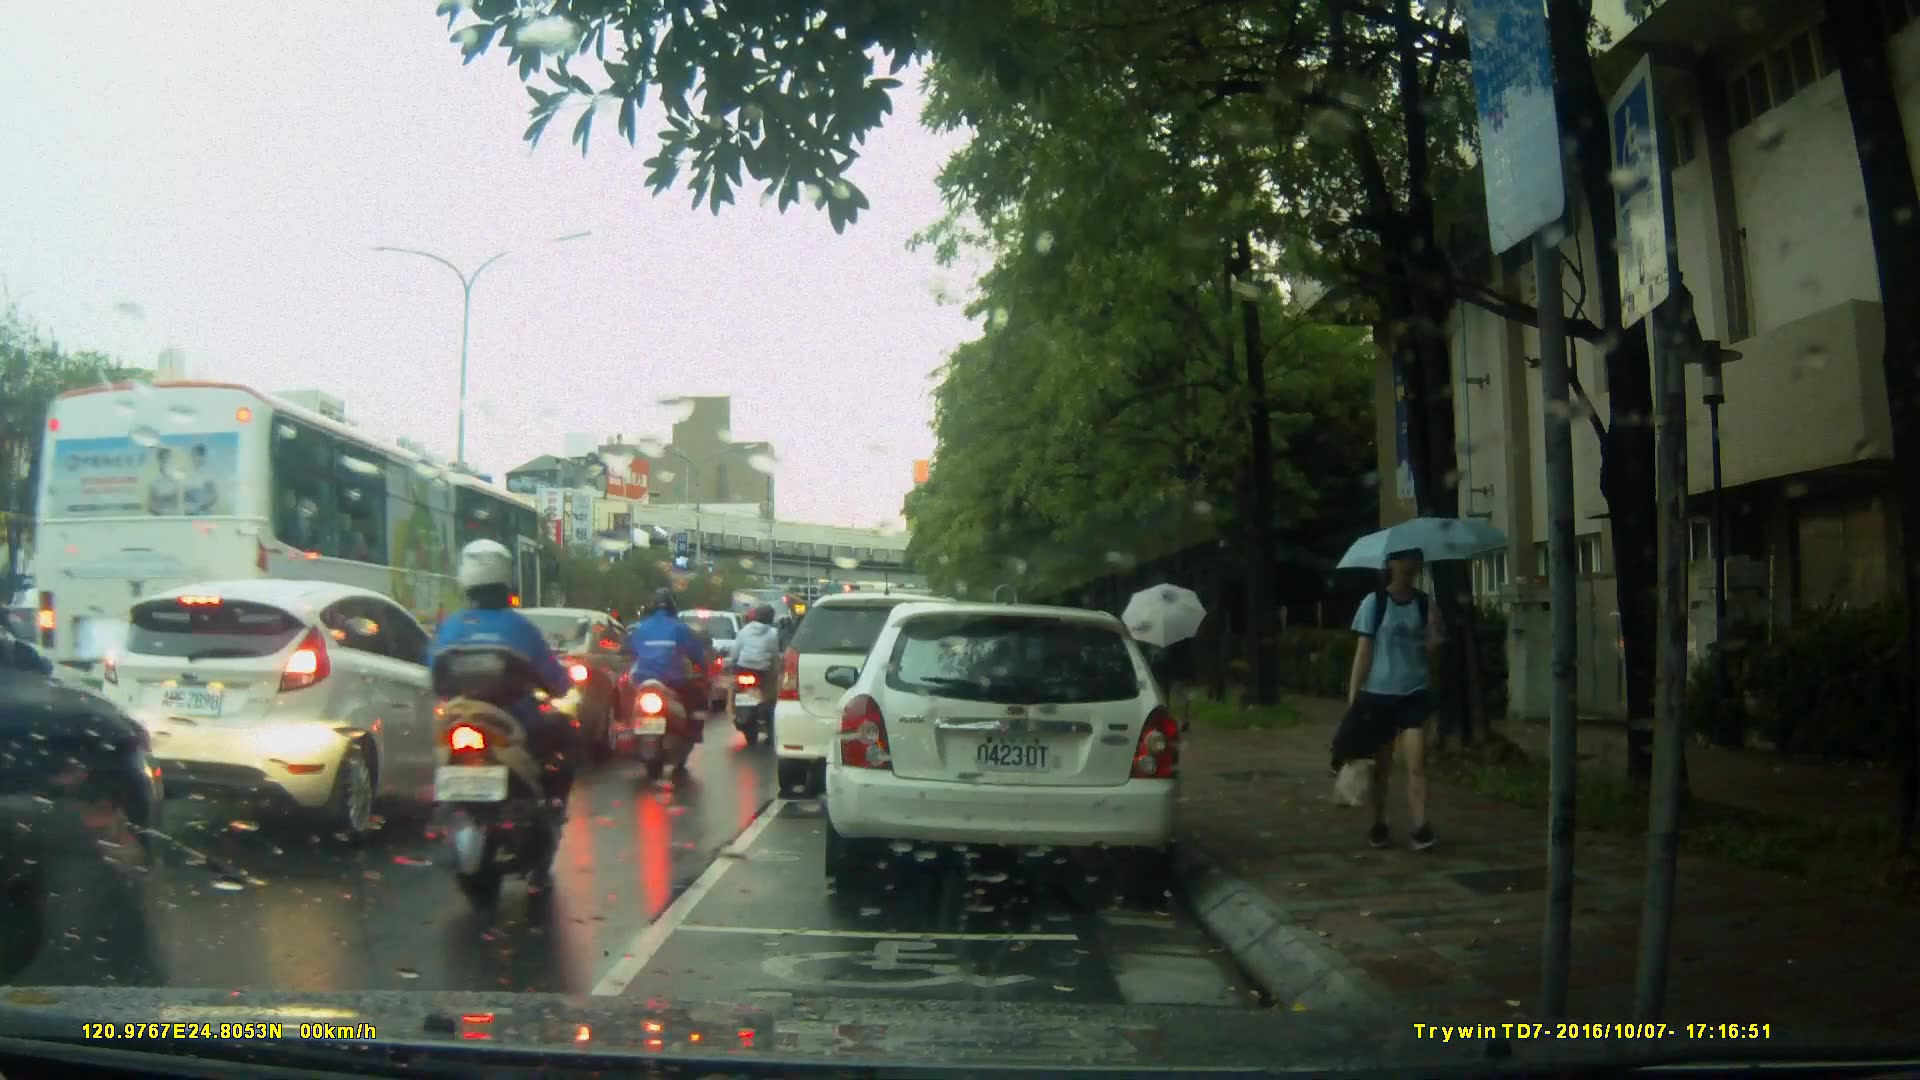pedestrian: (1333, 536, 1482, 854), (1138, 613, 1183, 724)
rider: (1, 444, 156, 1080), (426, 539, 583, 901), (629, 592, 711, 776), (735, 597, 797, 752)
vehicle: (30, 374, 550, 747), (835, 594, 1194, 898), (94, 576, 486, 846), (776, 590, 1026, 784), (417, 605, 662, 752), (610, 619, 724, 718)
